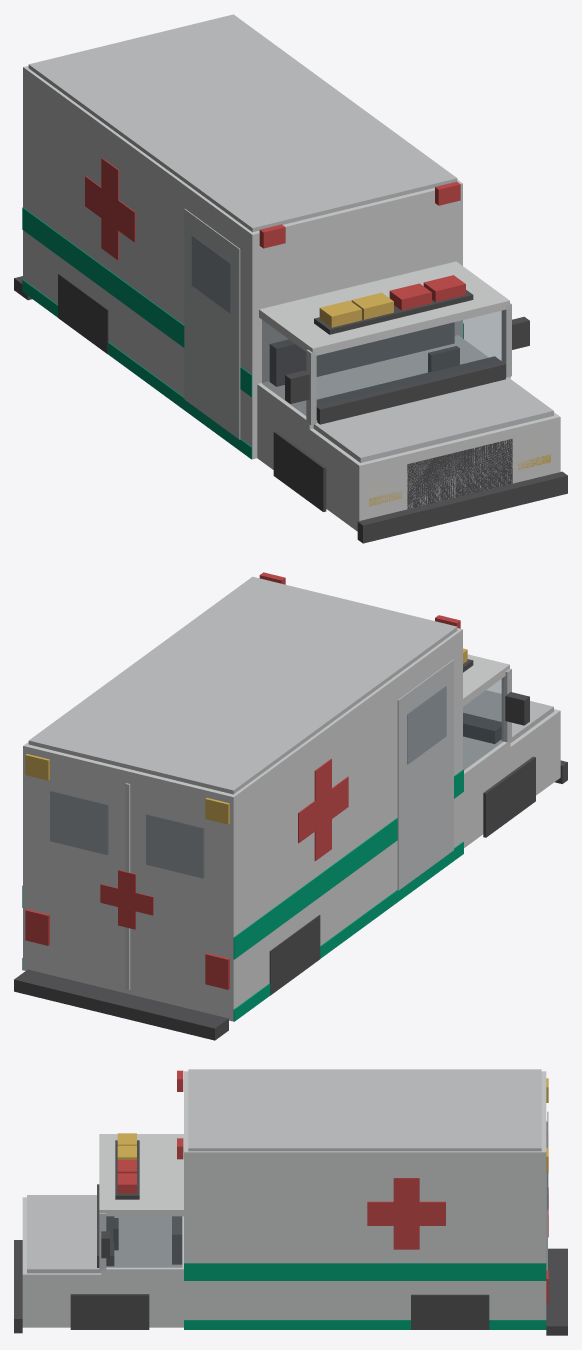
File: ambulance_body.glb
The picture shows the model from 3 angles, top to bottom: view 1: azimuth 30°, elevation 25°; view 2: azimuth 150°, elevation 25°; view 3: azimuth 270°, elevation 25°; orthographic projection. The views are drawn at different scales.
Visible parts, largest first — view 1: verda_ambulance; view 2: verda_ambulance; view 3: verda_ambulance.
Boxes of the visible parts, x1,y1,x2,y2 form: verda_ambulance: (14,14,567,543); verda_ambulance: (14,572,567,1040); verda_ambulance: (14,1069,567,1335).
Size of the model in its own units: 2.5 by 2.38 by 6.35.
